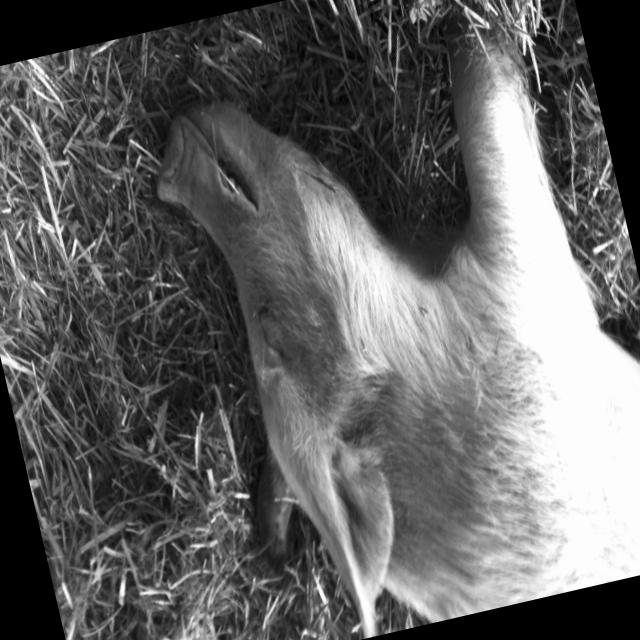pig: (154, 22, 640, 638)
